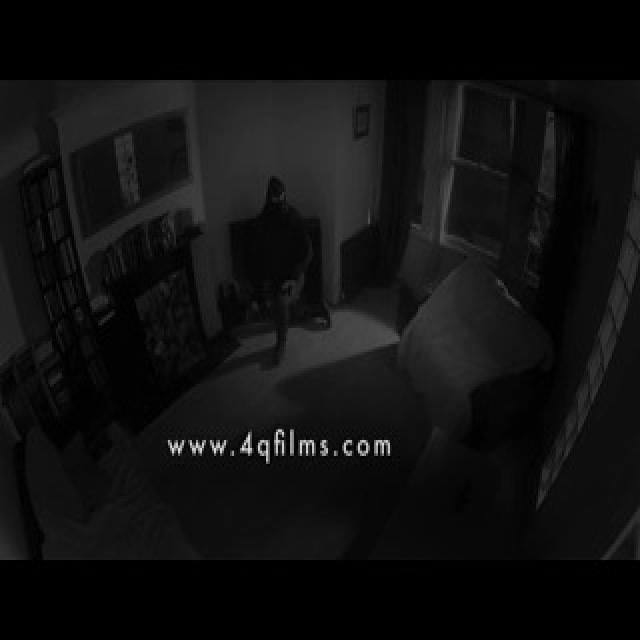thief: (259, 176, 330, 333)
